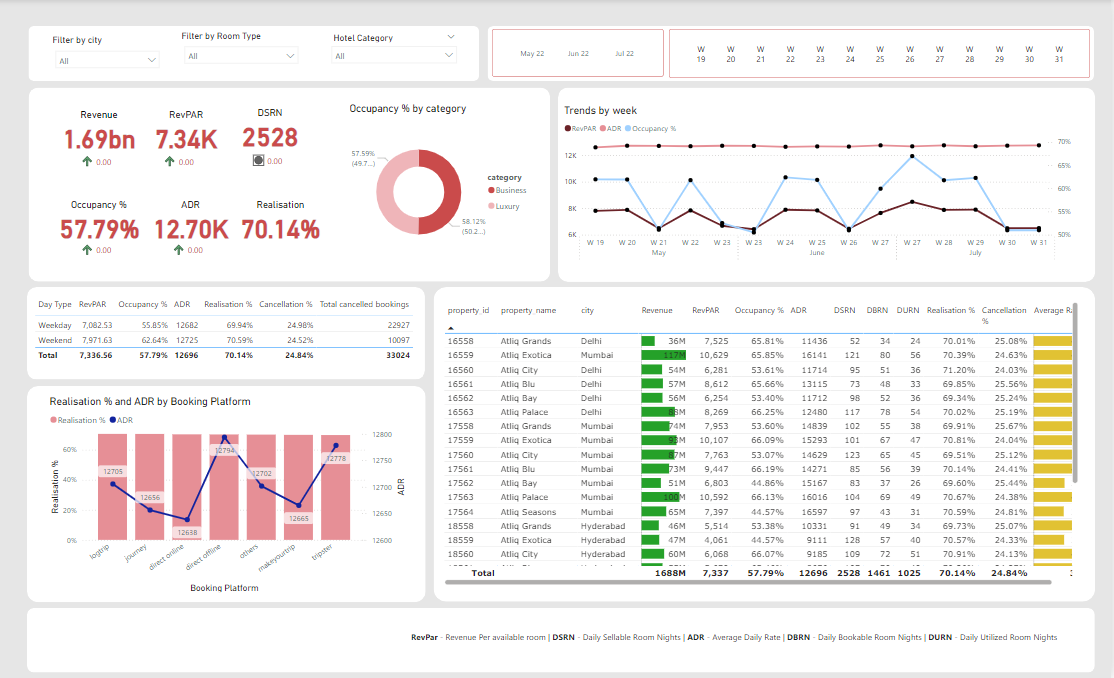

The page's visual inventory and layout, read from the dashboard file:
{"tool":"powerbi","page":{"name":"Page 1","canvas":[1800,1100],"ordinal":0},"visuals":[{"type":"shape","box":[790,42.9,982.7,89.1],"z":0,"group":"g2"},{"type":"tableEx","fields":{"Values":["key_measures.Realisation WoW change %"]},"box":[407.7,362.6,78.5,62.4],"z":0,"group":"g1"},{"type":"shape","box":[702,466,1072,510],"z":0},{"type":"shape","box":[44.4,466.7,644.8,150],"z":0,"group":"g3"},{"type":"shape","box":[44,626,646,350.3],"z":0,"group":"g5"},{"type":"shape","box":[45,143.3,845.3,314.6],"z":500,"group":"g1"},{"type":"shape","box":[45.5,43.6,730,89.1],"z":1000,"group":"g6"},{"type":"group","id":"g1","title":"Group 4","box":[45,143.3,1728.3,315],"z":1000},{"type":"tableEx","fields":{"Values":["key_measures.ADR WoW change %"]},"box":[269.3,361.4,77.1,60.7],"z":1000,"group":"g1"},{"type":"group","id":"g2","title":"Group 1","box":[790,42.9,982.7,89.1],"z":2000},{"type":"slicer","title":"Filter by date","fields":{"Values":["dim_date.mmm yy"]},"box":[797.3,48.6,278.3,77.3],"z":2000,"group":"g7"},{"type":"slicer","title":"Filter by city","fields":{"Values":["dim_hotels.city"]},"box":[79.1,57.2,188,74],"z":2000,"group":"g6"},{"type":"tableEx","fields":{"Values":["key_measures.Occupancy WoW change %"]},"box":[120,362.6,78.5,62.4],"z":2000,"group":"g1"},{"type":"slicer","fields":{"Values":["dim_date.week no"]},"box":[1083.3,47.6,682.1,79.1],"z":3000,"group":"g7"},{"type":"slicer","title":"Filter by Room Type","fields":{"Values":["dim_rooms.room_class"]},"box":[289.3,51.1,203.8,73.8],"z":3000,"group":"g6"},{"type":"donutChart","fields":{"Category":["dim_hotels.category"],"Y":["key_measures.Occupancy %"]},"box":[562.5,167.5,307.5,270],"z":3000},{"type":"tableEx","fields":{"Values":["key_measures.DSRN WoW change %"]},"box":[396.5,214.3,77.1,74.3],"z":3000,"group":"g8"},{"type":"lineChart","title":"Trends by week","fields":{"Category":["dim_date.mmm yy.Variation.Date Hierarchy.Month","dim_date.week no"],"Y":["key_measures.RevPAR","key_measures.ADR"],"Y2":["key_measures.Occupancy %"]},"box":[910,170.2,832.5,262.5],"z":4000},{"type":"tableEx","fields":{"Values":["key_measures.Revpar WoW change %"]},"box":[253,218.2,79.1,61.8],"z":4000,"group":"g1"},{"type":"group","id":"g3","title":"Group 5","box":[44.4,466.7,644.8,150],"z":5000},{"type":"group","id":"g4","title":"Group 6","box":[44,626,646,350],"z":6000},{"type":"tableEx","fields":{"Values":["dim_hotels.property_id","dim_hotels.property_name","dim_hotels.city","key_measures.Revenue","key_measures.RevPAR","key_measures.Occupancy %","key_measures.ADR","key_measures.DSRN","key_measures.DBRN","key_measures.DURN","key_measures.Realisation %","key_measures.Cancellation %"]},"box":[715,486.7,1036.7,468.3],"z":7000},{"type":"shape","box":[44.4,985.6,1730,104.4],"z":8000},{"type":"group","id":"g5","title":"Group 5","box":[44,626,646,350.3],"z":9000,"group":"g4"},{"type":"textbox","box":[662,1018,1090,38],"z":9000},{"type":"group","id":"g6","title":"Group 7","box":[45.5,43.6,730,89.1],"z":10000},{"type":"tableEx","fields":{"Values":["key_measures.Revenue WoW change %"]},"box":[119.7,218.2,79.8,61.6],"z":10000,"group":"g1"},{"type":"tableEx","fields":{"Values":["dim_date.day type","key_measures.RevPAR","key_measures.Occupancy %","key_measures.ADR","key_measures.Realisation %","key_measures.Cancellation %","key_measures.Total cancelled bookings"]},"box":[51.3,475.9,633.8,135],"z":10000,"group":"g3"},{"type":"lineStackedColumnComboChart","fields":{"Category":["fact_bookings.booking_platform"],"Y":["key_measures.Realisation %"],"Y2":["key_measures.ADR"]},"box":[75.3,639.5,585.9,324.4],"z":10000,"group":"g4"},{"type":"slicer","fields":{"Values":["dim_hotels.category"]},"box":[526.2,48.8,222.5,77.5],"z":11000},{"type":"card","title":"Revenue","fields":{"Values":["key_measures.Revenue"]},"box":[81.7,176.8,155.2,72.3],"z":11000,"group":"g1"},{"type":"group","id":"g7","title":"Group 2","box":[797.3,47.6,968.2,79.1],"z":11500,"group":"g2"},{"type":"shape","box":[902.8,143.3,870.5,315],"z":12002,"group":"g1"},{"type":"group","id":"g8","title":"Group 3","box":[357.4,174.1,155.9,114.2],"z":12502,"group":"g1"},{"type":"card","title":"DSRN","fields":{"Values":["key_measures.DSRN"]},"box":[357.4,174.1,155.2,71.7],"z":13000,"group":"g8"},{"type":"card","title":"Occupancy %","fields":{"Values":["key_measures.Occupancy %"]},"box":[81.6,322.2,155.2,71.7],"z":14000,"group":"g1"},{"type":"card","title":"RevPAR","fields":{"Values":["key_measures.RevPAR"]},"box":[222.1,176.4,155.2,73.1],"z":15000,"group":"g1"},{"type":"card","title":"ADR","fields":{"Values":["key_measures.ADR"]},"box":[230,322.3,155.2,71.7],"z":16000,"group":"g1"},{"type":"card","title":"Realisation","fields":{"Values":["key_measures.Realisation %"]},"box":[375.3,322.3,155,71.6],"z":17000,"group":"g1"}]}

Visuals, with their boxes in screenshot pixels (x1, y1, x2, y2), scaled from the page's 1800x1100 canvas onto the 1114x678 screenshot:
shape: x1=489, y1=26, x2=1097, y2=81
tableEx - key_measures.Realisation WoW change %: x1=252, y1=223, x2=301, y2=262
shape: x1=434, y1=287, x2=1098, y2=602
shape: x1=27, y1=288, x2=427, y2=380
shape: x1=27, y1=386, x2=427, y2=602
shape: x1=28, y1=88, x2=551, y2=282
shape: x1=28, y1=27, x2=480, y2=82
"Group 4" group: x1=28, y1=88, x2=1097, y2=282
tableEx - key_measures.ADR WoW change %: x1=167, y1=223, x2=214, y2=260
"Group 1" group: x1=489, y1=26, x2=1097, y2=81
"Filter by date" slicer: x1=493, y1=30, x2=666, y2=78
"Filter by city" slicer: x1=49, y1=35, x2=165, y2=81
tableEx - key_measures.Occupancy WoW change %: x1=74, y1=223, x2=123, y2=262
slicer - dim_date.week no: x1=670, y1=29, x2=1093, y2=78
"Filter by Room Type" slicer: x1=179, y1=31, x2=305, y2=77
donutChart - dim_hotels.category x key_measures.Occupancy %: x1=348, y1=103, x2=538, y2=270
tableEx - key_measures.DSRN WoW change %: x1=245, y1=132, x2=293, y2=178
"Trends by week" lineChart: x1=563, y1=105, x2=1078, y2=267
tableEx - key_measures.Revpar WoW change %: x1=157, y1=134, x2=206, y2=173
"Group 5" group: x1=27, y1=288, x2=427, y2=380
"Group 6" group: x1=27, y1=386, x2=427, y2=602
tableEx - dim_hotels.property_id x dim_hotels.property_name: x1=443, y1=300, x2=1084, y2=589
shape: x1=27, y1=607, x2=1098, y2=672
"Group 5" group: x1=27, y1=386, x2=427, y2=602
textbox: x1=410, y1=627, x2=1084, y2=651
"Group 7" group: x1=28, y1=27, x2=480, y2=82
tableEx - key_measures.Revenue WoW change %: x1=74, y1=134, x2=123, y2=172
tableEx - dim_date.day type x key_measures.RevPAR: x1=32, y1=293, x2=424, y2=377
lineStackedColumnComboChart - fact_bookings.booking_platform x key_measures.Realisation %: x1=47, y1=394, x2=409, y2=594
slicer - dim_hotels.category: x1=326, y1=30, x2=463, y2=78
"Revenue" card: x1=51, y1=109, x2=147, y2=154
"Group 2" group: x1=493, y1=29, x2=1093, y2=78
shape: x1=559, y1=88, x2=1097, y2=282
"Group 3" group: x1=221, y1=107, x2=318, y2=178
"DSRN" card: x1=221, y1=107, x2=317, y2=152
"Occupancy %" card: x1=51, y1=199, x2=147, y2=243
"RevPAR" card: x1=137, y1=109, x2=234, y2=154
"ADR" card: x1=142, y1=199, x2=238, y2=243
"Realisation" card: x1=232, y1=199, x2=328, y2=243
